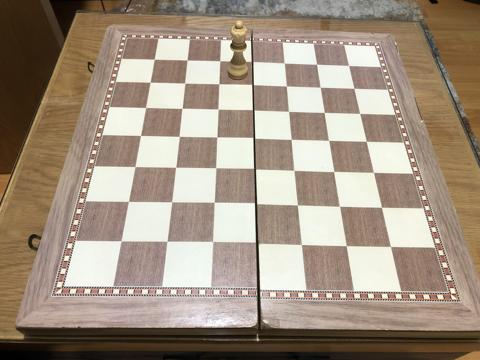xcorner: (214, 56, 226, 69), (213, 79, 225, 92), (168, 163, 181, 175), (128, 162, 140, 175), (334, 202, 347, 214), (164, 198, 176, 211), (385, 242, 398, 254), (341, 241, 353, 254), (344, 60, 356, 72), (312, 59, 324, 71), (279, 58, 291, 70), (247, 57, 259, 69), (181, 56, 193, 68), (148, 55, 160, 67), (350, 83, 362, 95), (316, 82, 328, 94), (281, 81, 293, 93), (247, 80, 259, 92), (178, 79, 190, 91), (144, 78, 156, 90), (355, 109, 367, 121), (320, 108, 332, 120), (284, 107, 296, 119), (248, 106, 260, 118), (212, 105, 224, 117), (175, 104, 187, 116), (139, 103, 151, 115), (362, 137, 374, 149), (324, 136, 336, 148), (286, 135, 298, 147), (248, 134, 260, 146), (210, 133, 222, 145), (172, 132, 184, 144), (134, 131, 146, 143), (369, 168, 381, 180), (329, 167, 341, 179), (289, 166, 301, 178), (249, 165, 261, 177), (209, 164, 221, 176), (377, 203, 389, 215), (292, 201, 304, 213), (250, 200, 262, 212), (207, 199, 219, 211), (121, 198, 133, 210), (296, 241, 308, 253), (251, 240, 263, 252), (205, 239, 217, 251), (160, 238, 172, 250), (114, 237, 126, 249)
